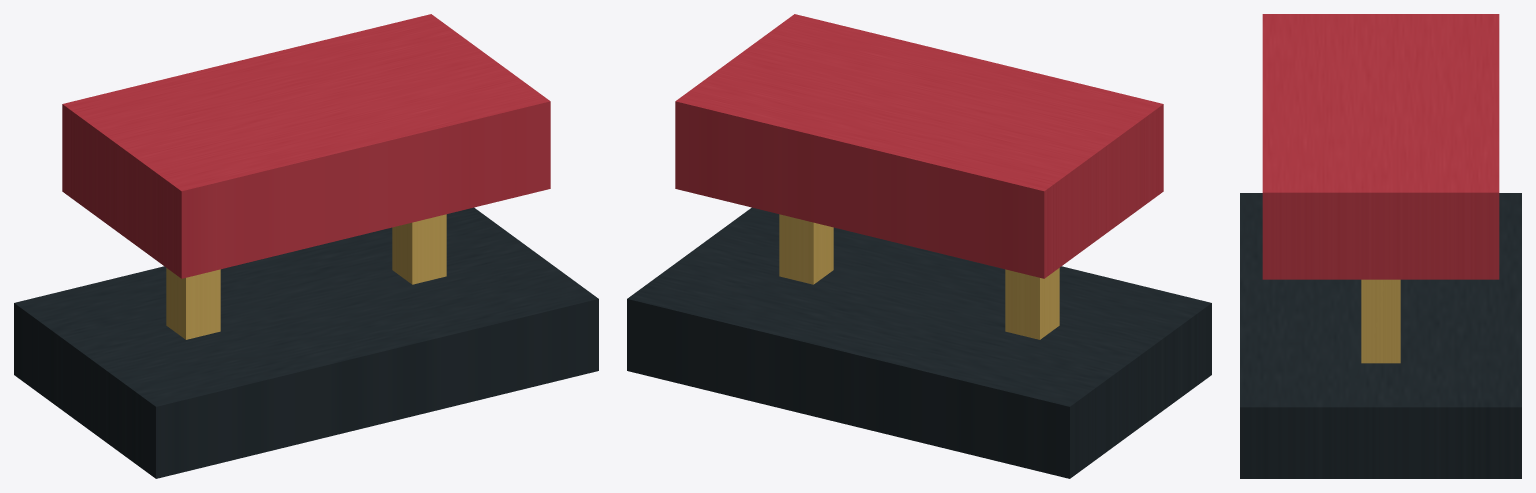
3 views of the same model, side by side, from view 1: azimuth 30°, elevation 25°; view 2: azimuth 150°, elevation 25°; view 3: azimuth 270°, elevation 25° (orthographic).
Parts seen in each view (by area): view 1: 236_L118_W321; view 2: 236_L118_W321; view 3: 236_L118_W321.
Part boxes in pixels (left/top/right/bottom): 236_L118_W321: left=14, top=14, right=598, bottom=478; 236_L118_W321: left=627, top=14, right=1211, bottom=478; 236_L118_W321: left=1240, top=14, right=1521, bottom=478.
Bounding box in the file's own units: 0.009 × 0.00525 × 0.005.
3 materials, 3 textured.
